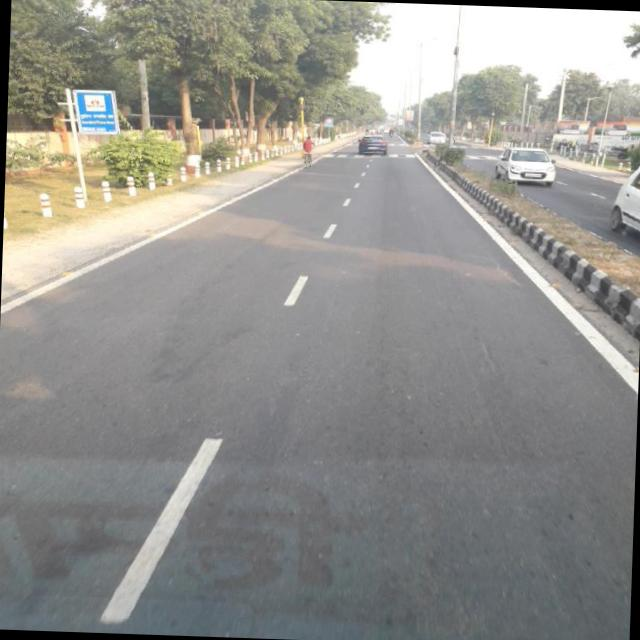pothole: (476, 321, 504, 401), (482, 252, 528, 299)
